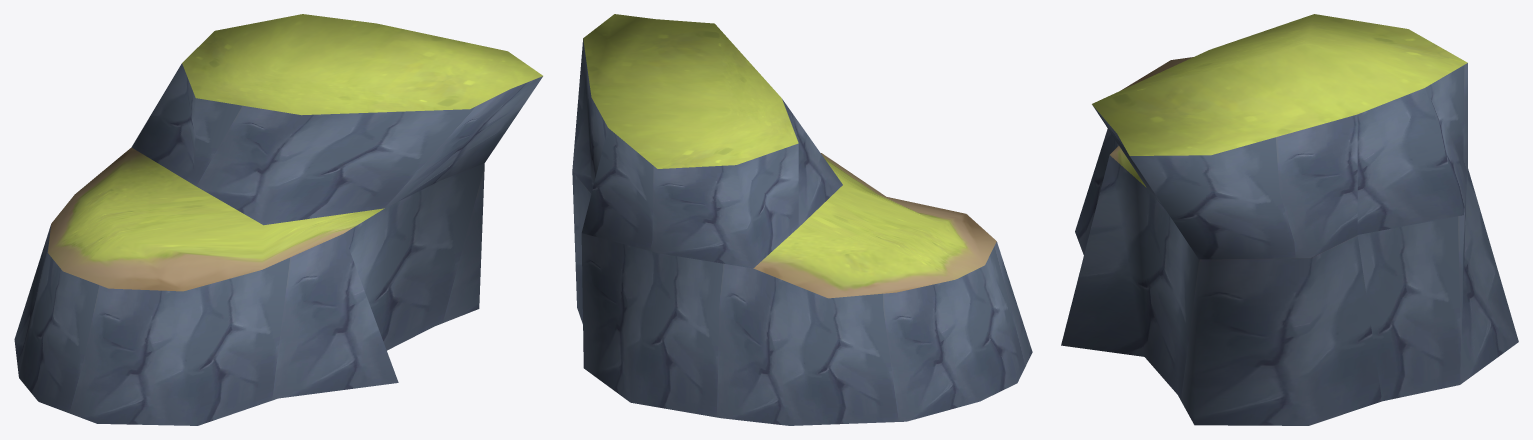
File: Isle_Island_Finish.glb
3 views of the same model, side by side, from view 1: azimuth 30°, elevation 25°; view 2: azimuth 150°, elevation 25°; view 3: azimuth 270°, elevation 25° (orthographic). The views are drawn at different scales.
Visible parts, largest first — view 1: Finish_Island; view 2: Finish_Island; view 3: Finish_Island.
Boxes of the visible parts, x1=… form: Finish_Island: x1=14, y1=14, x2=542, y2=425; Finish_Island: x1=572, y1=14, x2=1032, y2=425; Finish_Island: x1=1061, y1=14, x2=1518, y2=425.
Size of what is drawn, in the model's own units: 81.59 by 41.03 by 58.52.
Materials: 2 (2 with a texture image).
